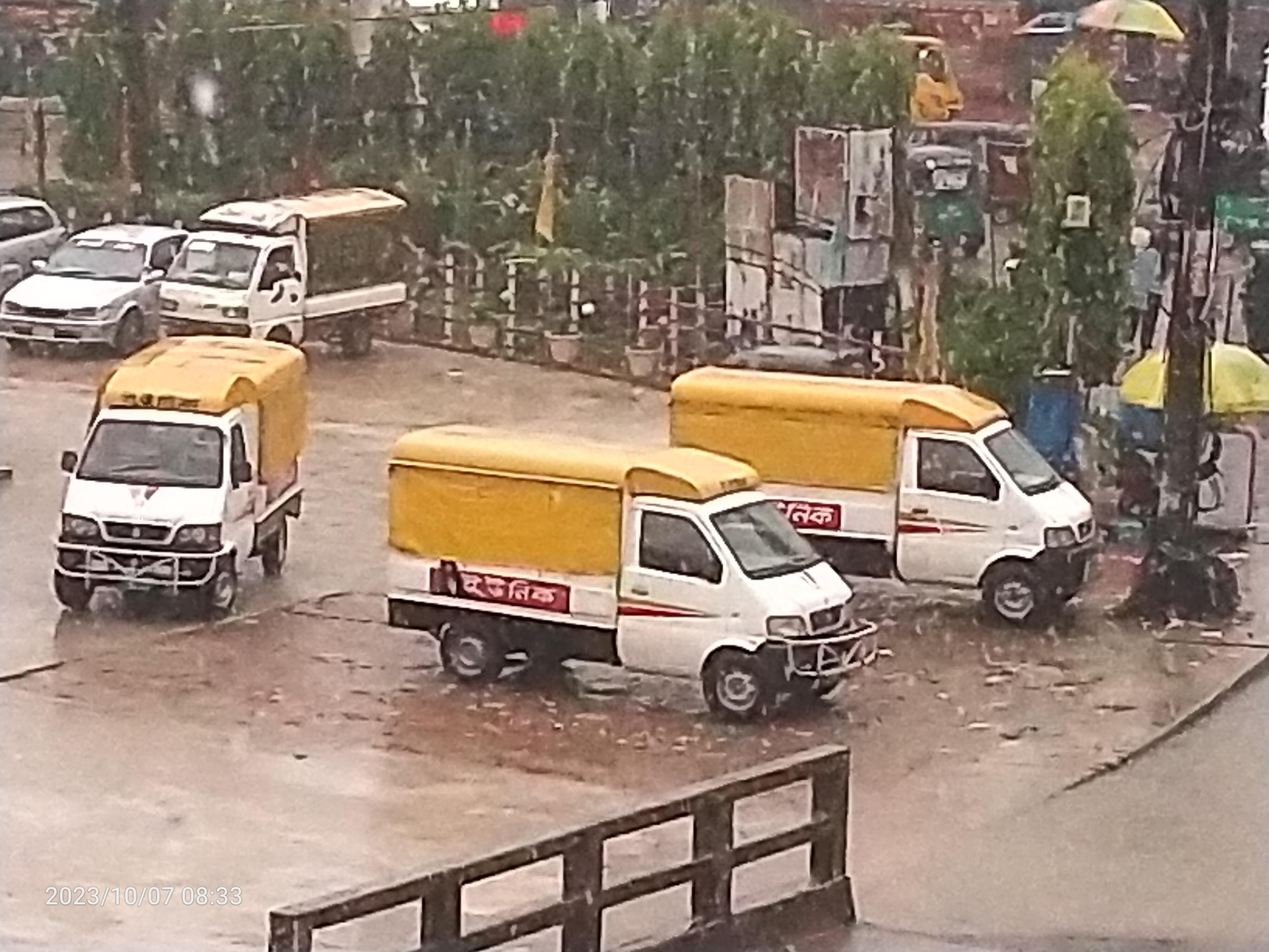Car: (357, 379, 899, 748), (656, 349, 1153, 660), (18, 327, 326, 654), (147, 188, 426, 370), (4, 181, 192, 374), (0, 166, 65, 303)
